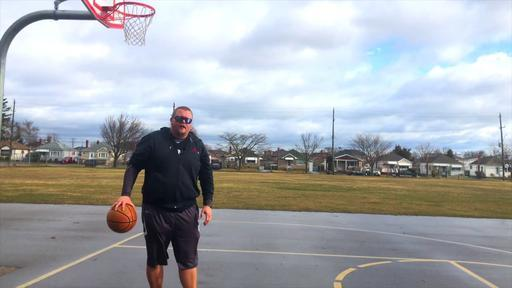ball: (107, 203, 137, 233)
human: (110, 106, 214, 288)
rim: (101, 1, 155, 46)
